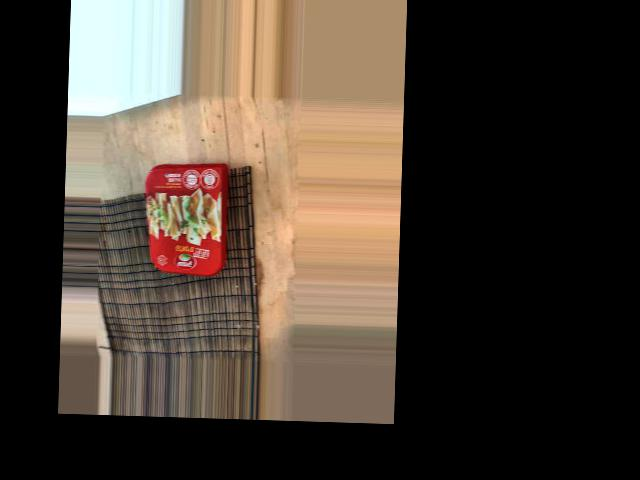cheese: (86, 220, 215, 315)
